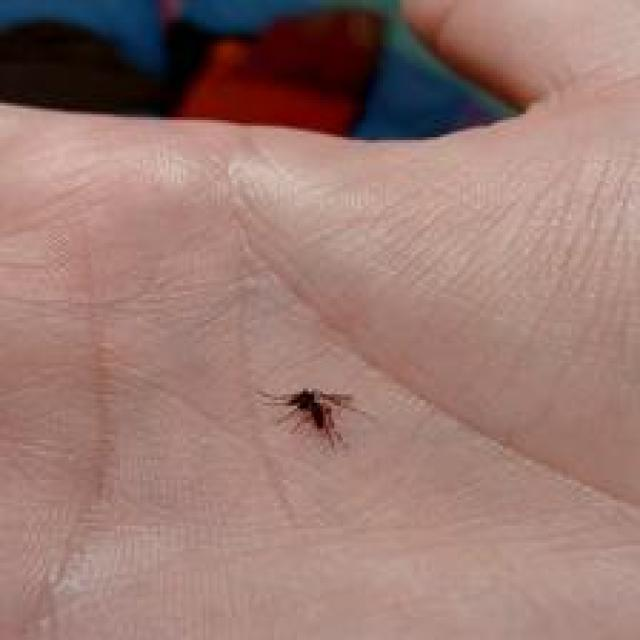Aedes albopictus: (257, 384, 369, 450)
